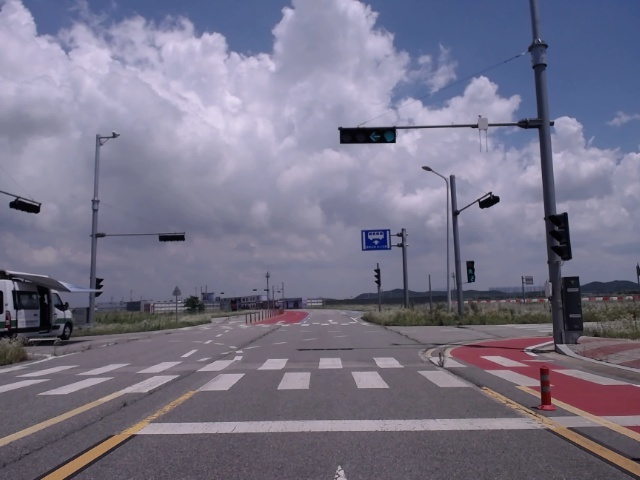all_green_4: (341, 129, 396, 143)
